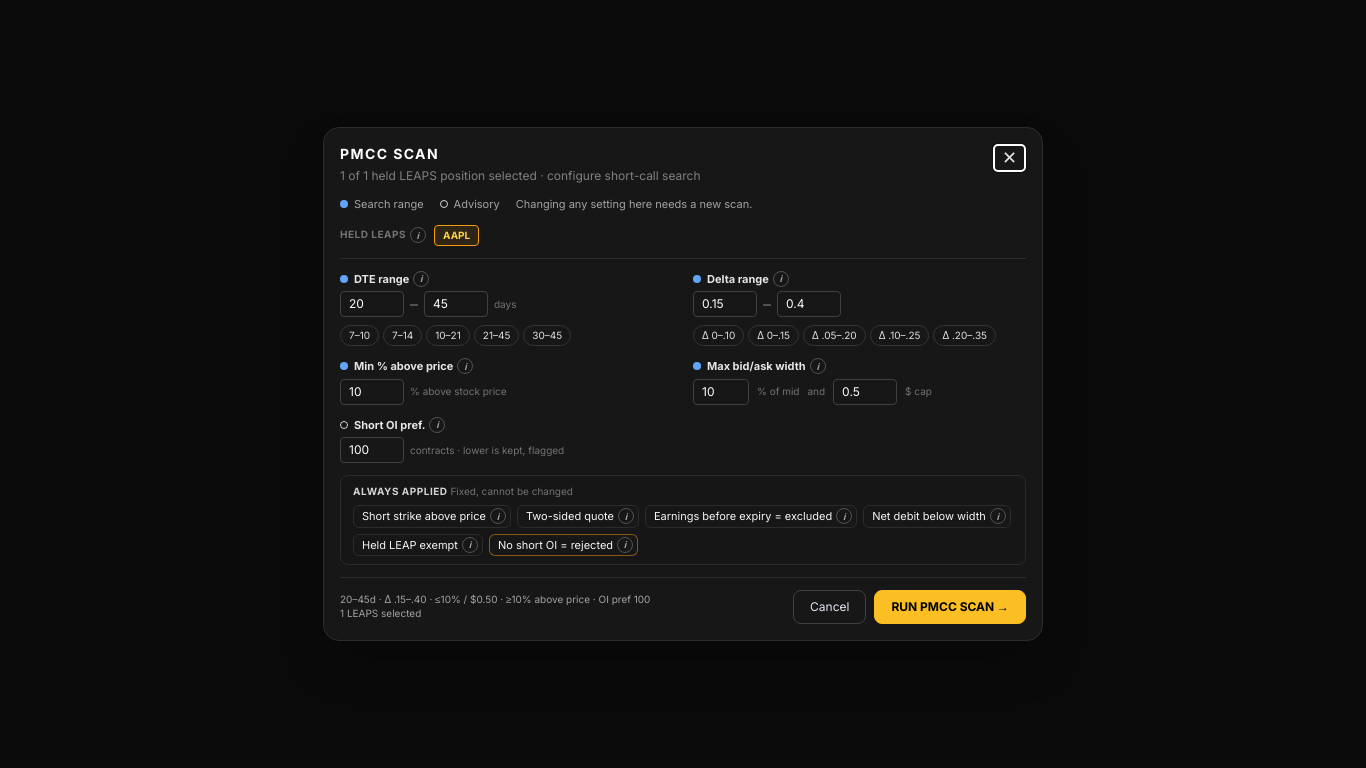
Scenario: SCAN-ALIGN-0001 F1 PMCC delta chips › a chip sets both Min and Max delta
Click the button "Δ .05–.20".
click(834, 336)  # box 803,325 -> 866,346
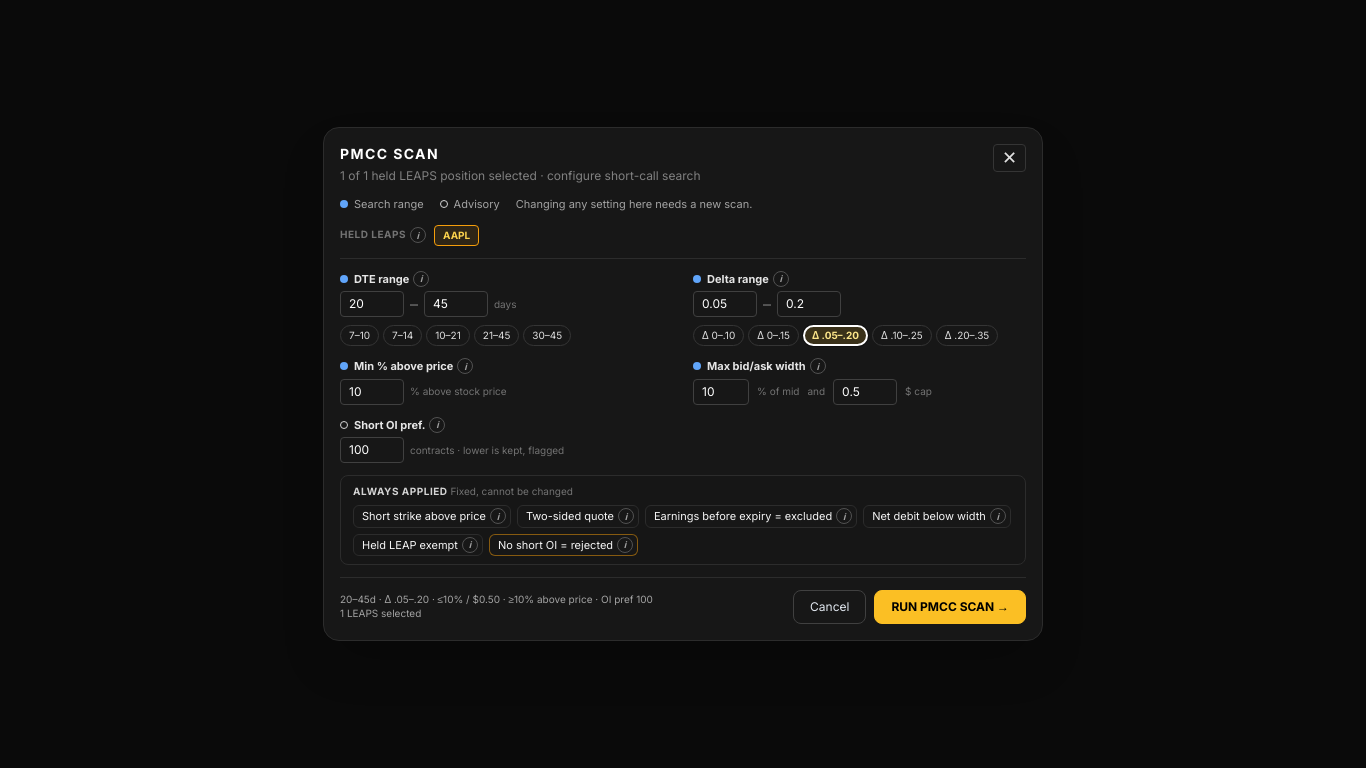
Expected: the field named "Min Δ" holds "0.05", 693,291 -> 757,317
Expected: the field named "Max Δ" holds "0.2", 777,291 -> 841,317
Click the button "Δ 0–.15".
click(774, 336)  # box 748,325 -> 799,346
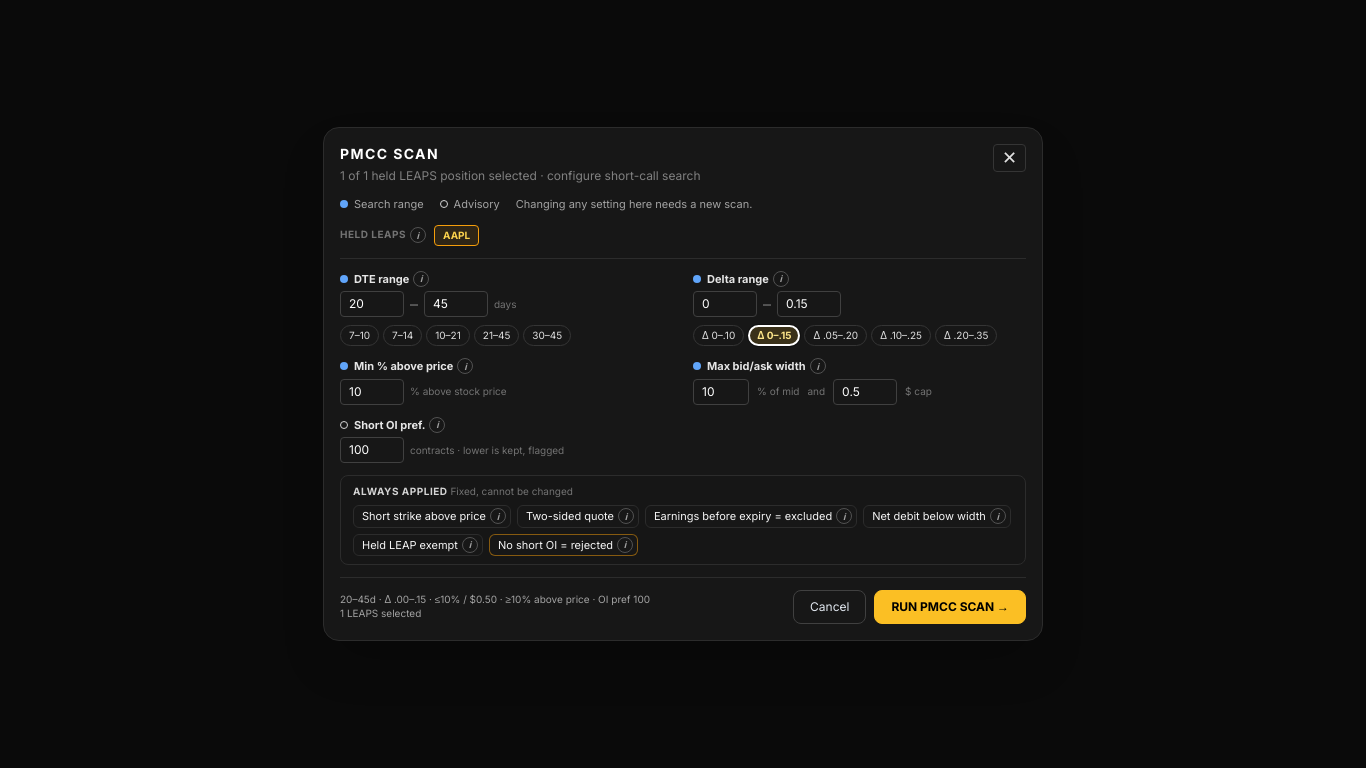
Expected: the field named "Min Δ" holds "0", 693,291 -> 757,317
Expected: the field named "Max Δ" holds "0.15", 777,291 -> 841,317
